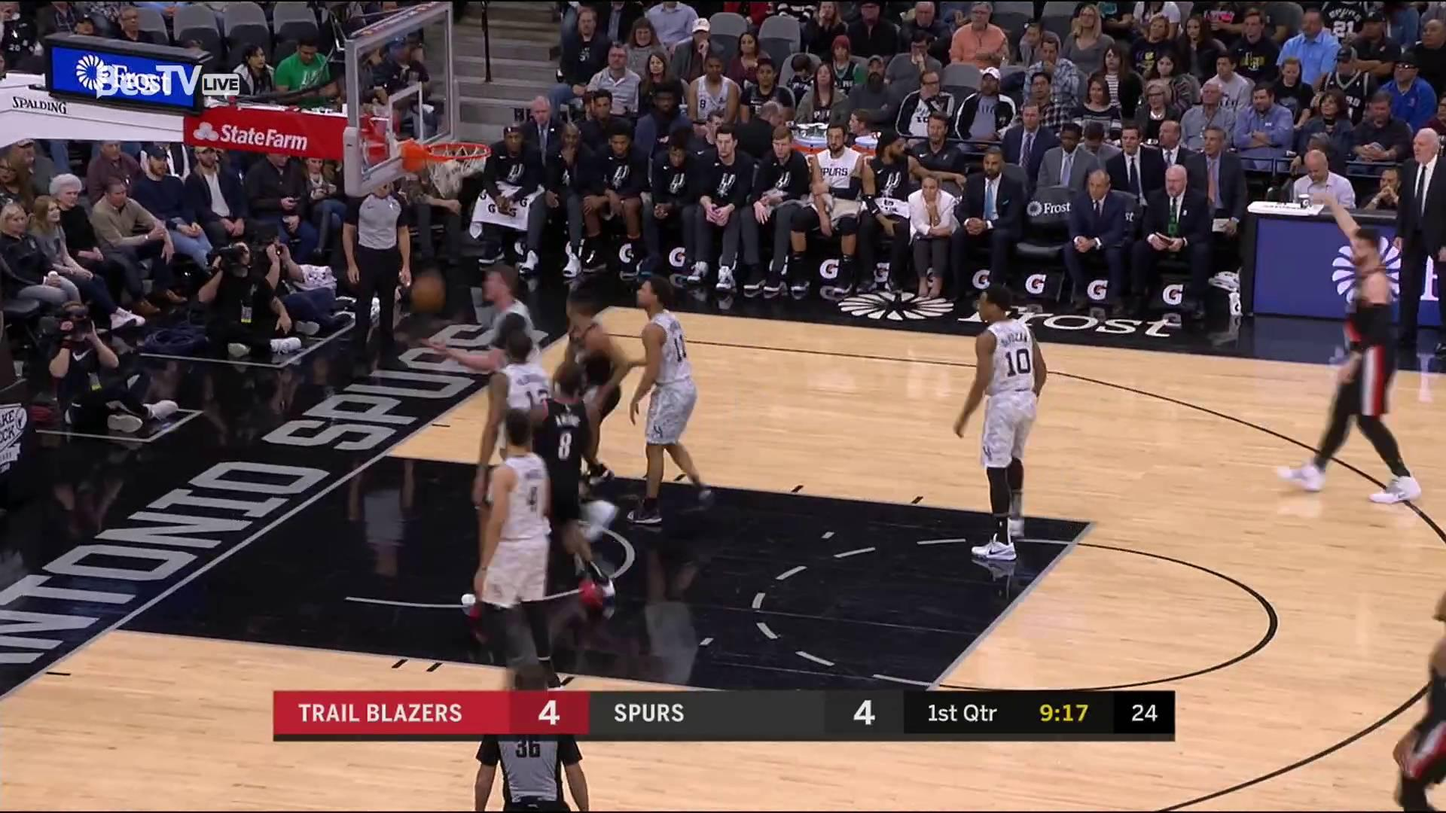basketball: (409, 272, 445, 312)
